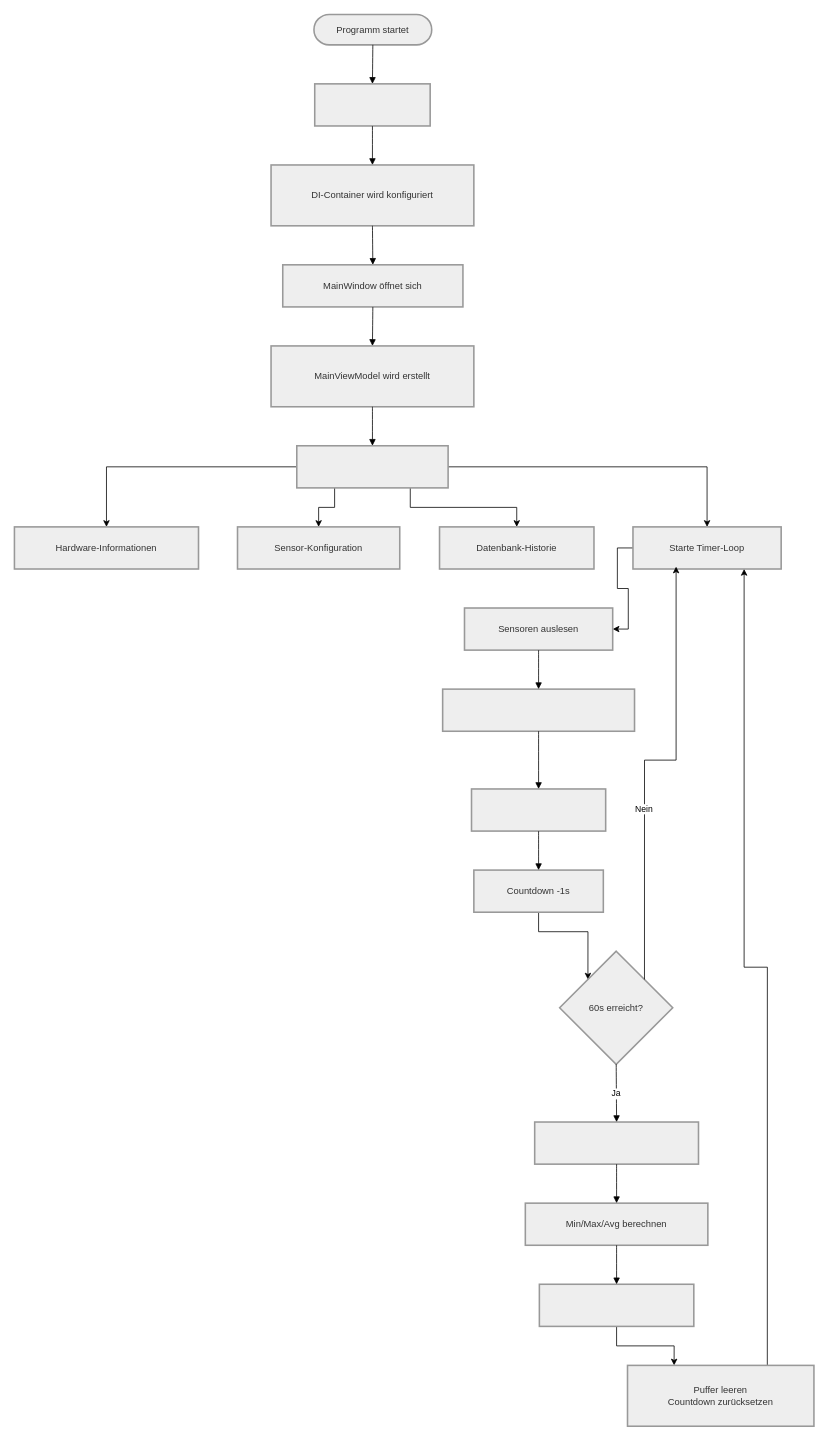
Some shapes in this 828 by 1440 pixel diagram are drawn without their labels. Each missing label, with the centre of its shape:
App.xaml.cs: the point at 372,104
Datenbank speichern: the point at 616,1143
In SQLite speichern: the point at 616,1305
Lädt initiale Daten: the point at 372,466
Nach Konfiguration filtern: the point at 538,710
UI aktualisieren: the point at 538,809
